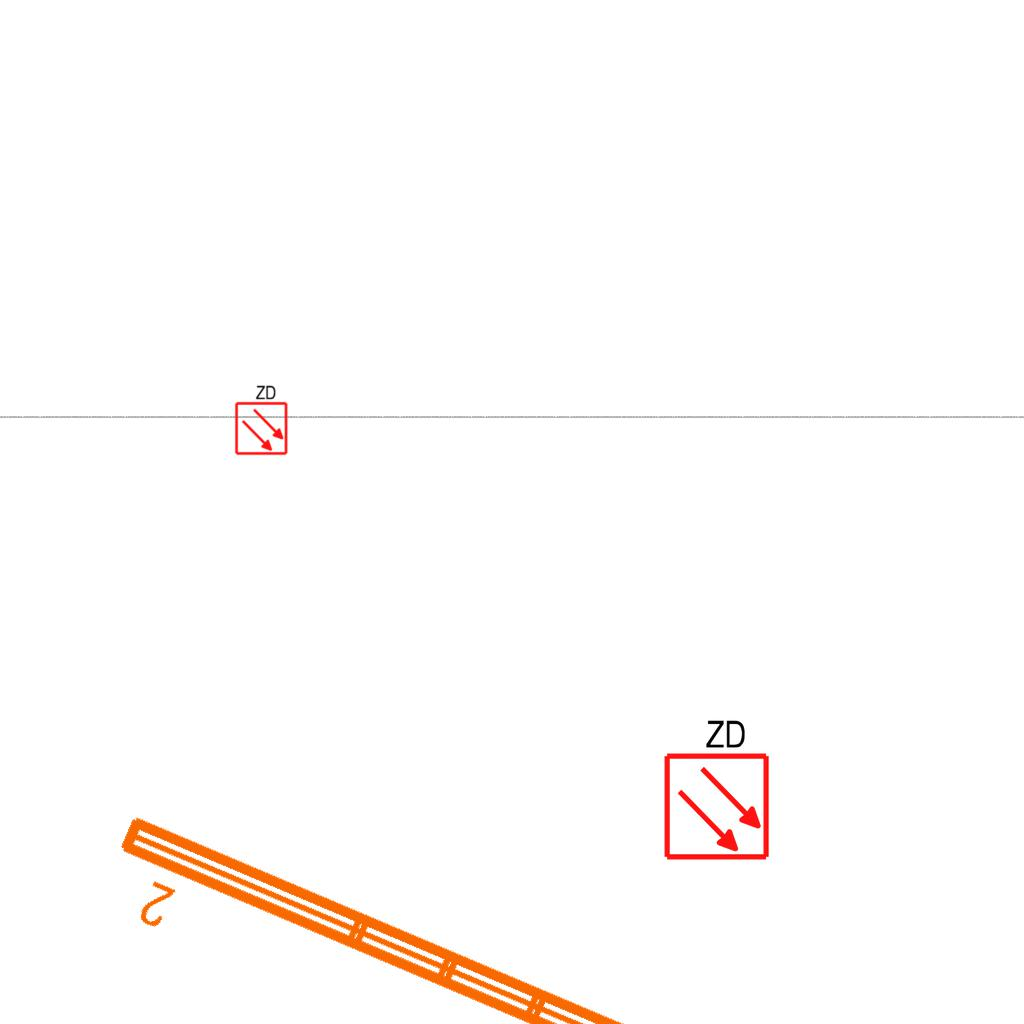Ambulanz_Pendelleuchte_LED: (86, 801, 844, 1024)
ZD_Melder_in_Zwischendecke_mit_Revisionsoeffnung_mind_40_x_40_cm: (658, 713, 772, 862), (232, 382, 289, 456)
